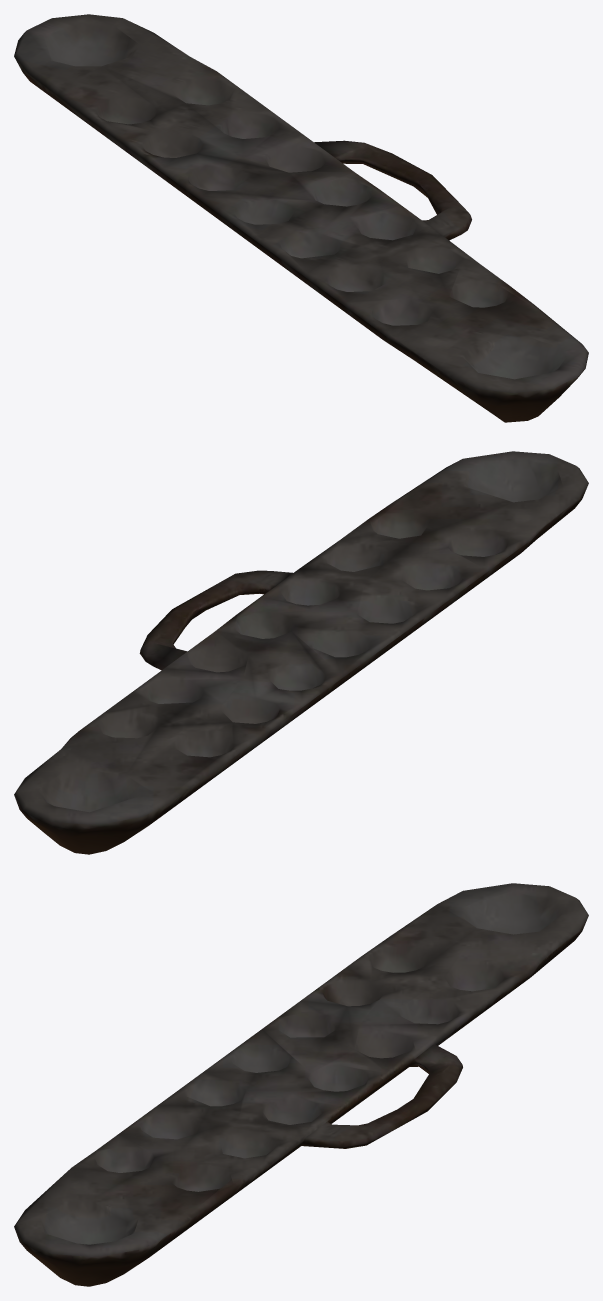
Rendered from sungka_board.glb.
The picture shows the model from 3 angles, top to bottom: view 1: azimuth 30°, elevation 25°; view 2: azimuth 150°, elevation 25°; view 3: azimuth 330°, elevation 25°; orthographic projection.
Parts seen in each view (by area): view 1: sungka_board; view 2: sungka_board; view 3: sungka_board.
Part boxes in pixels (bbox=[...]): sungka_board: bbox=[14, 14, 588, 422]; sungka_board: bbox=[14, 451, 588, 854]; sungka_board: bbox=[14, 883, 588, 1286].
Size of the model in its own units: 0.1396 by 0.0352 by 0.6006.
Materials: 1 (1 with a texture image).
